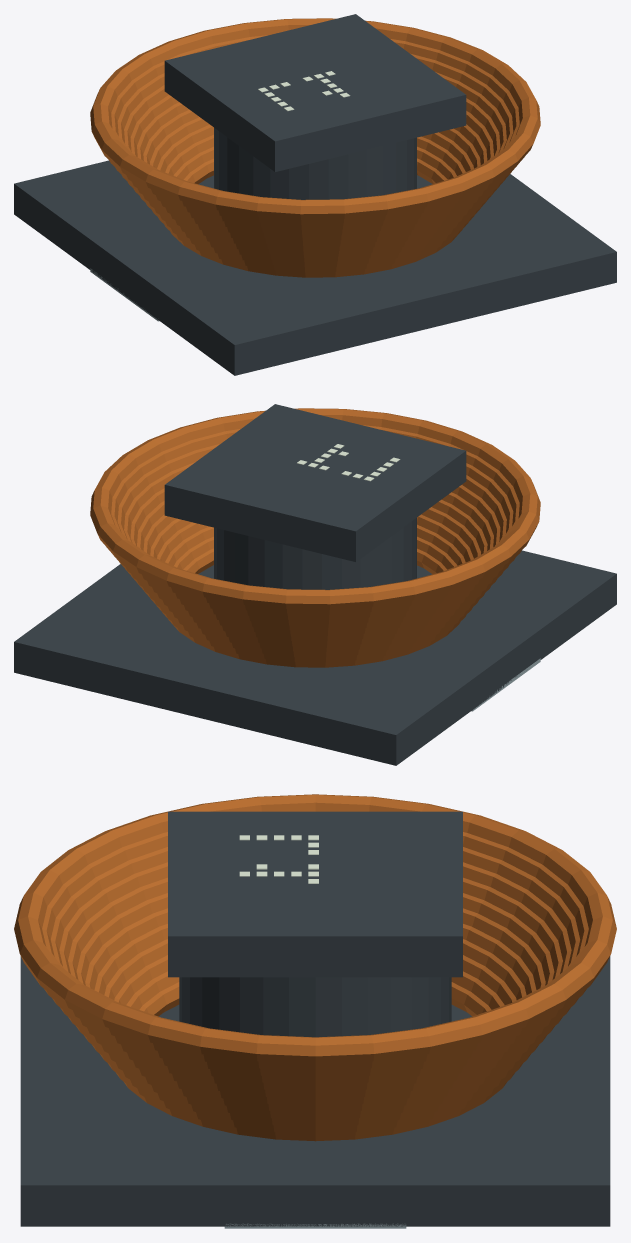
File: 13_L97_L1_Inductor.fbx
The picture shows the model from 3 angles, top to bottom: view 1: azimuth 30°, elevation 25°; view 2: azimuth 150°, elevation 25°; view 3: azimuth 270°, elevation 25°; orthographic projection. The views are drawn at different scales.
Visible parts, largest first — view 1: L1_base, L1_core_top, L1_copper_turn_11, L1_ferrite_inner, L1_copper_turn_10, L1_copper_turn_9, L1_copper_turn_8, L1_copper_turn_7, L1_copper_turn_6, L1_copper_turn_4, L1_copper_turn_3, L1_copper_turn_5 (+3 smaller); view 2: L1_base, L1_core_top, L1_copper_turn_11, L1_ferrite_inner, L1_copper_turn_10, L1_copper_turn_9, L1_copper_turn_8, L1_copper_turn_7, L1_copper_turn_6, L1_copper_turn_4, L1_copper_turn_3, L1_copper_turn_5 (+3 smaller); view 3: L1_base, L1_core_top, L1_copper_turn_11, L1_ferrite_inner, L1_copper_turn_10, L1_copper_turn_9, L1_copper_turn_8, L1_copper_turn_7, L1_copper_turn_6, L1_copper_turn_5, L1_copper_turn_4, L1_copper_turn_3 (+4 smaller).
Part boxes in pixels (left/top/right/bottom): L1_base: left=14, top=160, right=616, bottom=375; L1_core_top: left=164, top=14, right=466, bottom=171; L1_copper_turn_11: left=90, top=18, right=540, bottom=219; L1_ferrite_inner: left=214, top=128, right=416, bottom=199; L1_copper_turn_10: left=109, top=35, right=524, bottom=224; L1_copper_turn_9: left=116, top=53, right=516, bottom=230; L1_copper_turn_8: left=122, top=72, right=510, bottom=235; L1_copper_turn_7: left=128, top=95, right=505, bottom=240; L1_copper_turn_6: left=134, top=102, right=499, bottom=245; L1_copper_turn_4: left=146, top=117, right=486, bottom=256; L1_copper_turn_3: left=152, top=124, right=480, bottom=261; L1_copper_turn_5: left=140, top=109, right=492, bottom=251; L1_base: left=14, top=550, right=616, bottom=765; L1_core_top: left=164, top=404, right=466, bottom=561; L1_copper_turn_11: left=90, top=408, right=540, bottom=609; L1_ferrite_inner: left=214, top=518, right=416, bottom=589; L1_copper_turn_10: left=106, top=425, right=521, bottom=614; L1_copper_turn_9: left=114, top=443, right=514, bottom=620; L1_copper_turn_8: left=120, top=462, right=508, bottom=625; L1_copper_turn_7: left=125, top=485, right=502, bottom=630; L1_copper_turn_6: left=131, top=492, right=496, bottom=635; L1_copper_turn_4: left=144, top=507, right=484, bottom=646; L1_copper_turn_3: left=150, top=514, right=478, bottom=651; L1_copper_turn_5: left=138, top=499, right=490, bottom=641; L1_base: left=20, top=956, right=610, bottom=1226; L1_core_top: left=168, top=811, right=462, bottom=977; L1_copper_turn_11: left=14, top=794, right=616, bottom=1063; L1_ferrite_inner: left=179, top=977, right=451, bottom=1037; L1_copper_turn_10: left=42, top=832, right=588, bottom=1070; L1_copper_turn_9: left=50, top=847, right=580, bottom=1077; L1_copper_turn_8: left=59, top=862, right=571, bottom=1084; L1_copper_turn_7: left=68, top=877, right=562, bottom=1091; L1_copper_turn_6: left=76, top=893, right=554, bottom=1098; L1_copper_turn_5: left=84, top=908, right=546, bottom=1105; L1_copper_turn_4: left=92, top=924, right=538, bottom=1112; L1_copper_turn_3: left=100, top=939, right=530, bottom=1119.
Size of the model in its own units: 0.0133 by 0.00565 by 0.0133.
